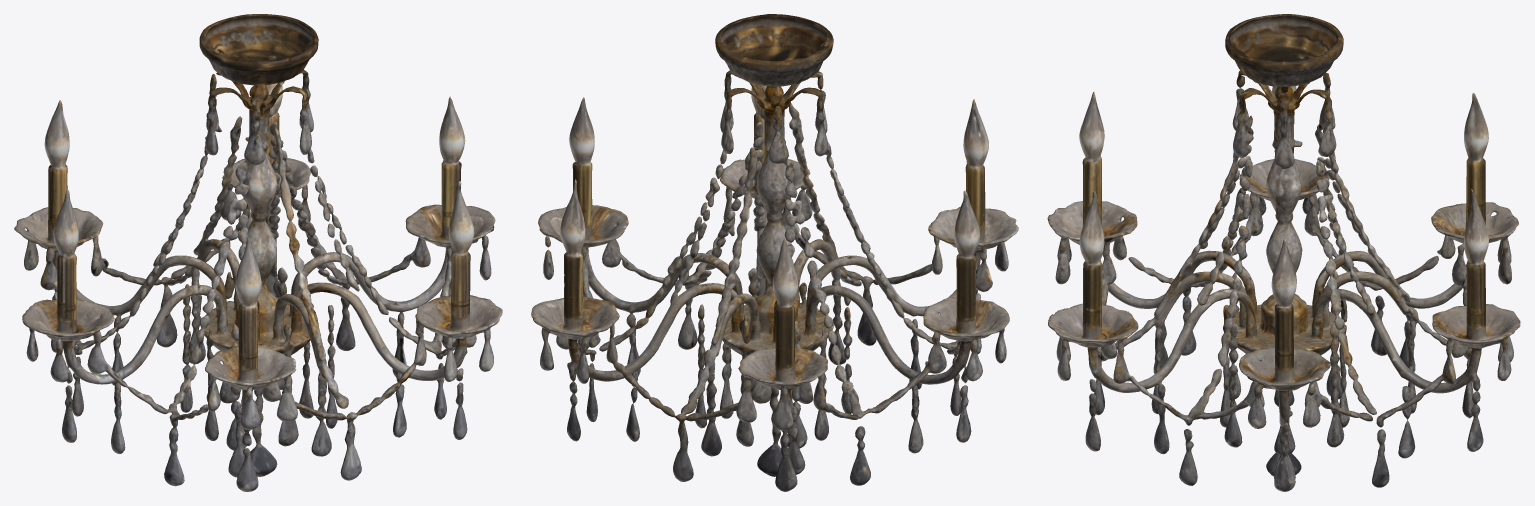
The model's file is A_highly_detailed_cei_0613163300_texture.fbx.
3 views of the same model, side by side, from view 1: azimuth 30°, elevation 25°; view 2: azimuth 150°, elevation 25°; view 3: azimuth 270°, elevation 25° (orthographic).
Parts seen in each view (by area): view 1: Mesh1_Mesh1.002; view 2: Mesh1_Mesh1.002; view 3: Mesh1_Mesh1.002.
Boxes of the visible parts, x1,y1,x2,y2 form: Mesh1_Mesh1.002: (14, 14, 502, 491); Mesh1_Mesh1.002: (531, 14, 1018, 491); Mesh1_Mesh1.002: (1047, 14, 1520, 491).
Bounding box in the file's own units: 200 × 182 × 176.
1 material, 1 textured.
